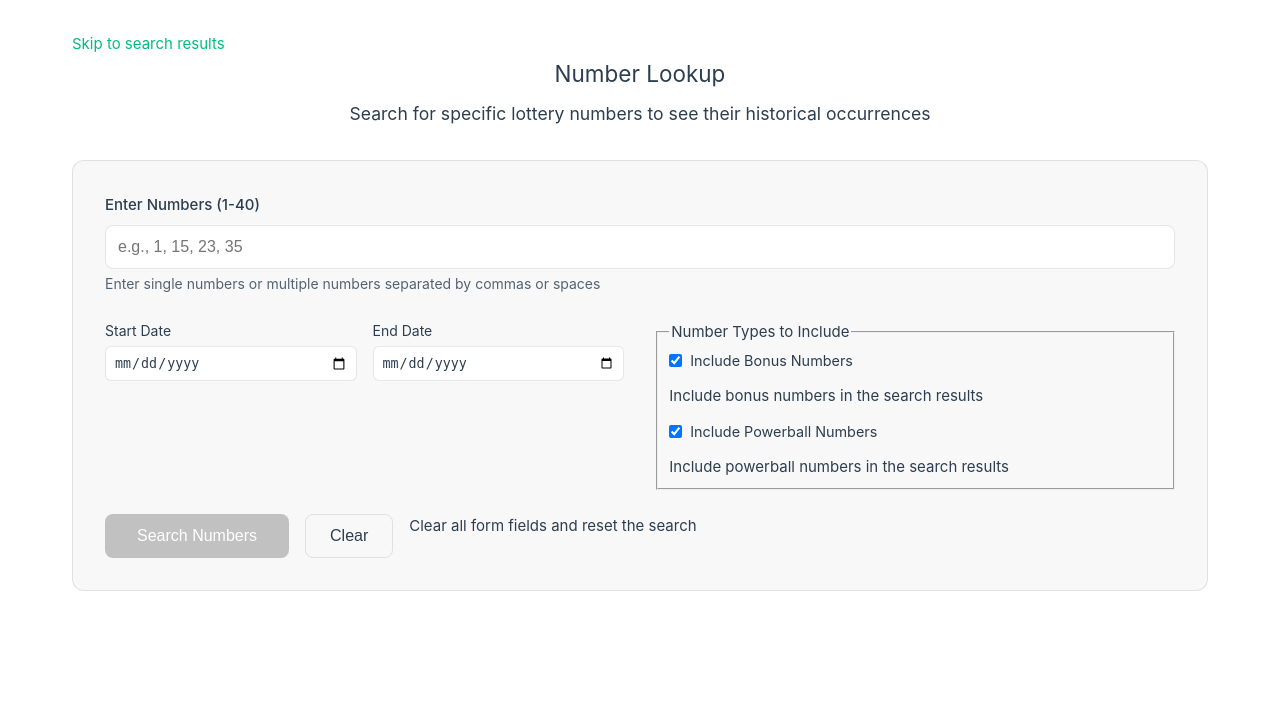
Test: NumberLookup Accessibility › shows validation errors with proper ARIA attributes
Type "invalid" into the field with id "numbers-input" at (640,247), box [105,225,1175,269]
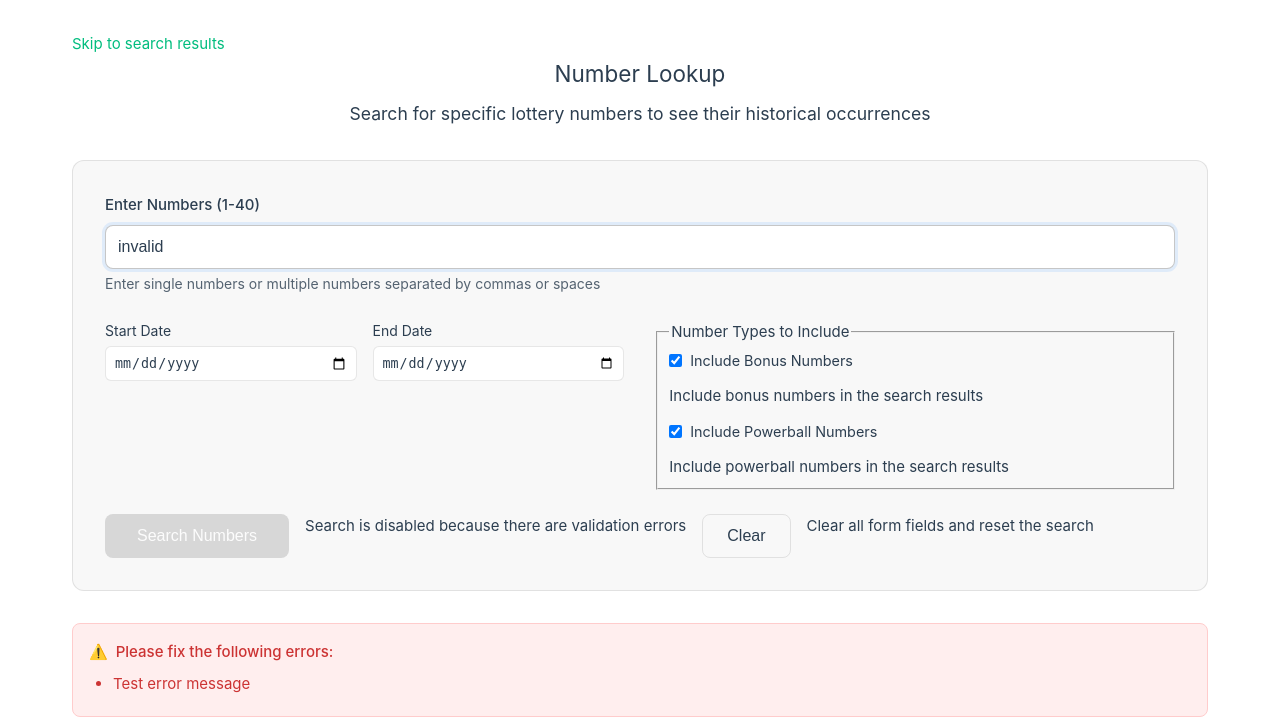
Expected: the message "⚠️ Please fix the following errors: Test error message" is shown, [72,623,1208,717]
